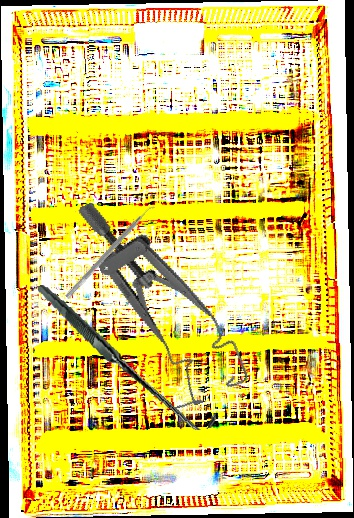Hook Surgical: (37, 263, 218, 450)
Spatula Surgical: (64, 202, 158, 303)
Speculum: (75, 172, 252, 420)
